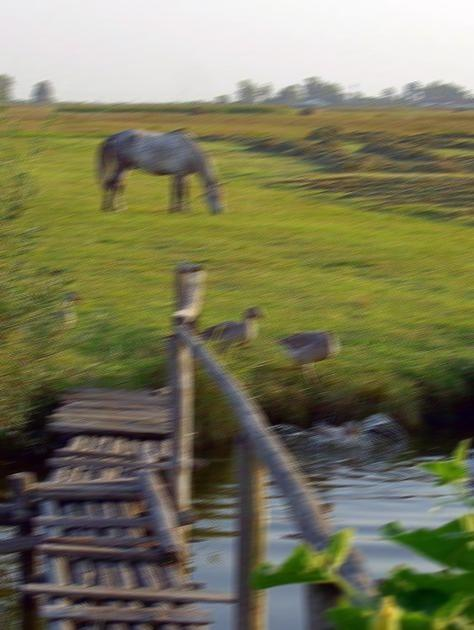horse: (93, 126, 227, 214)
